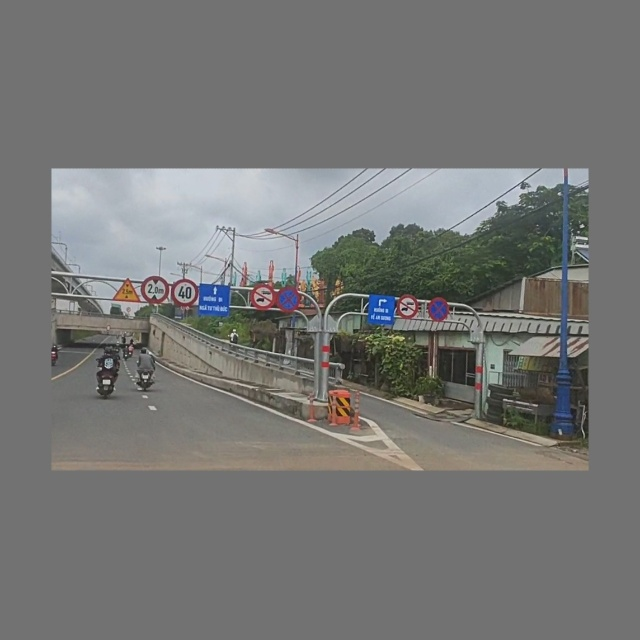P.107: (245, 280, 281, 316), (392, 291, 423, 324)
P.117*: (137, 272, 175, 310)
P.127*40: (167, 274, 204, 313)
P.130: (272, 282, 305, 317), (424, 293, 455, 327)
W.239b*: (109, 273, 145, 309)
